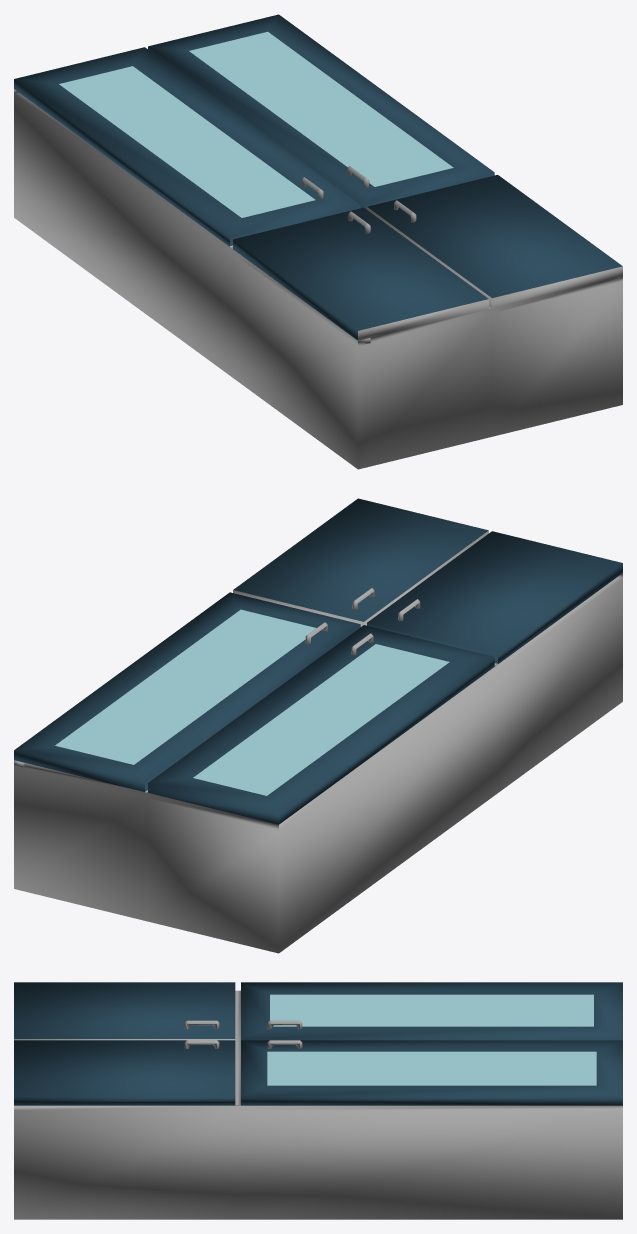
3 views of the same model, one above another, from view 1: azimuth 30°, elevation 25°; view 2: azimuth 150°, elevation 25°; view 3: azimuth 270°, elevation 25° (orthographic). The views are drawn at different scales.
Visible parts, largest first — view 1: Cube.004; view 2: Cube.004; view 3: Cube.004.
Boxes of the visible parts, x1,y1,x2,y2 form: Cube.004: (14, 14, 622, 469); Cube.004: (14, 498, 622, 953); Cube.004: (14, 982, 622, 1219).
Bounding box in the file's own units: 80 × 42.66 × 180.
